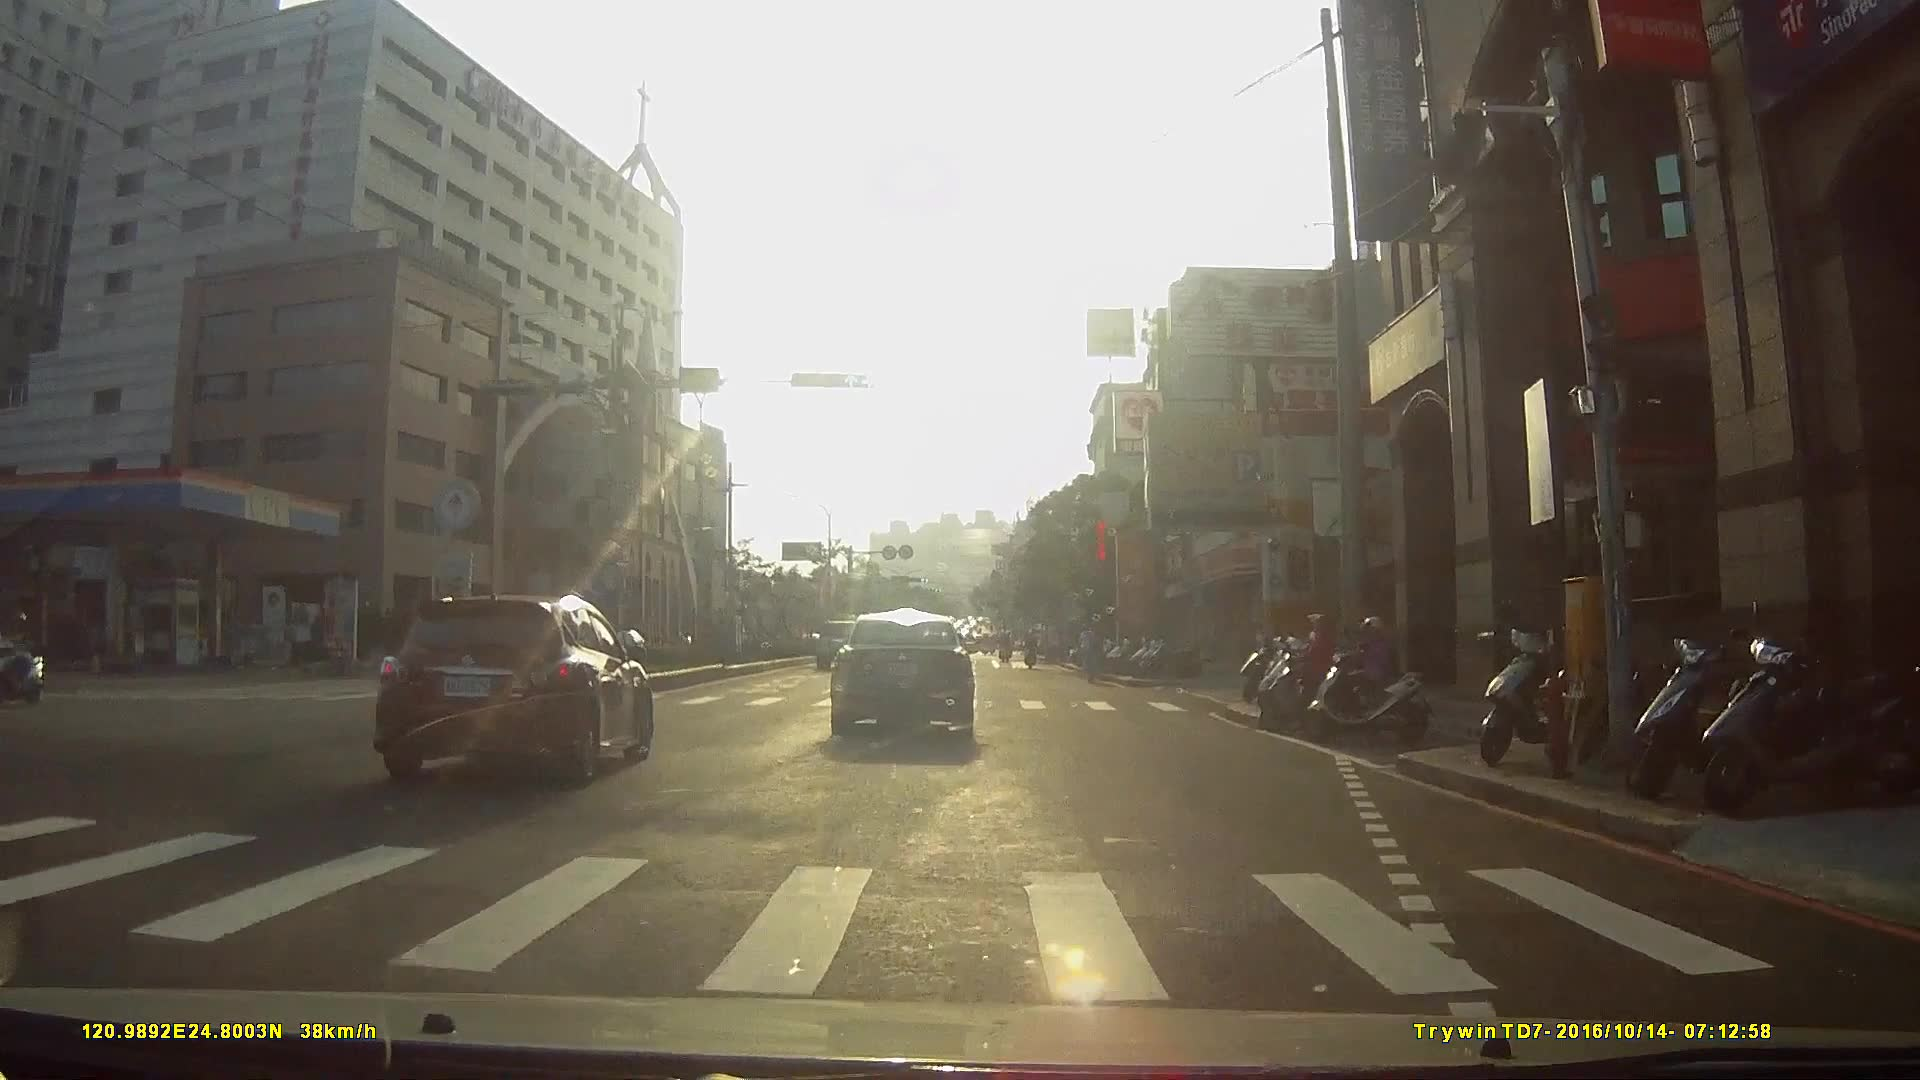rider: (1299, 611, 1436, 755), (1249, 612, 1356, 728), (1, 613, 47, 701)
vehicle: (374, 583, 663, 785), (832, 606, 989, 747), (820, 612, 879, 667)
